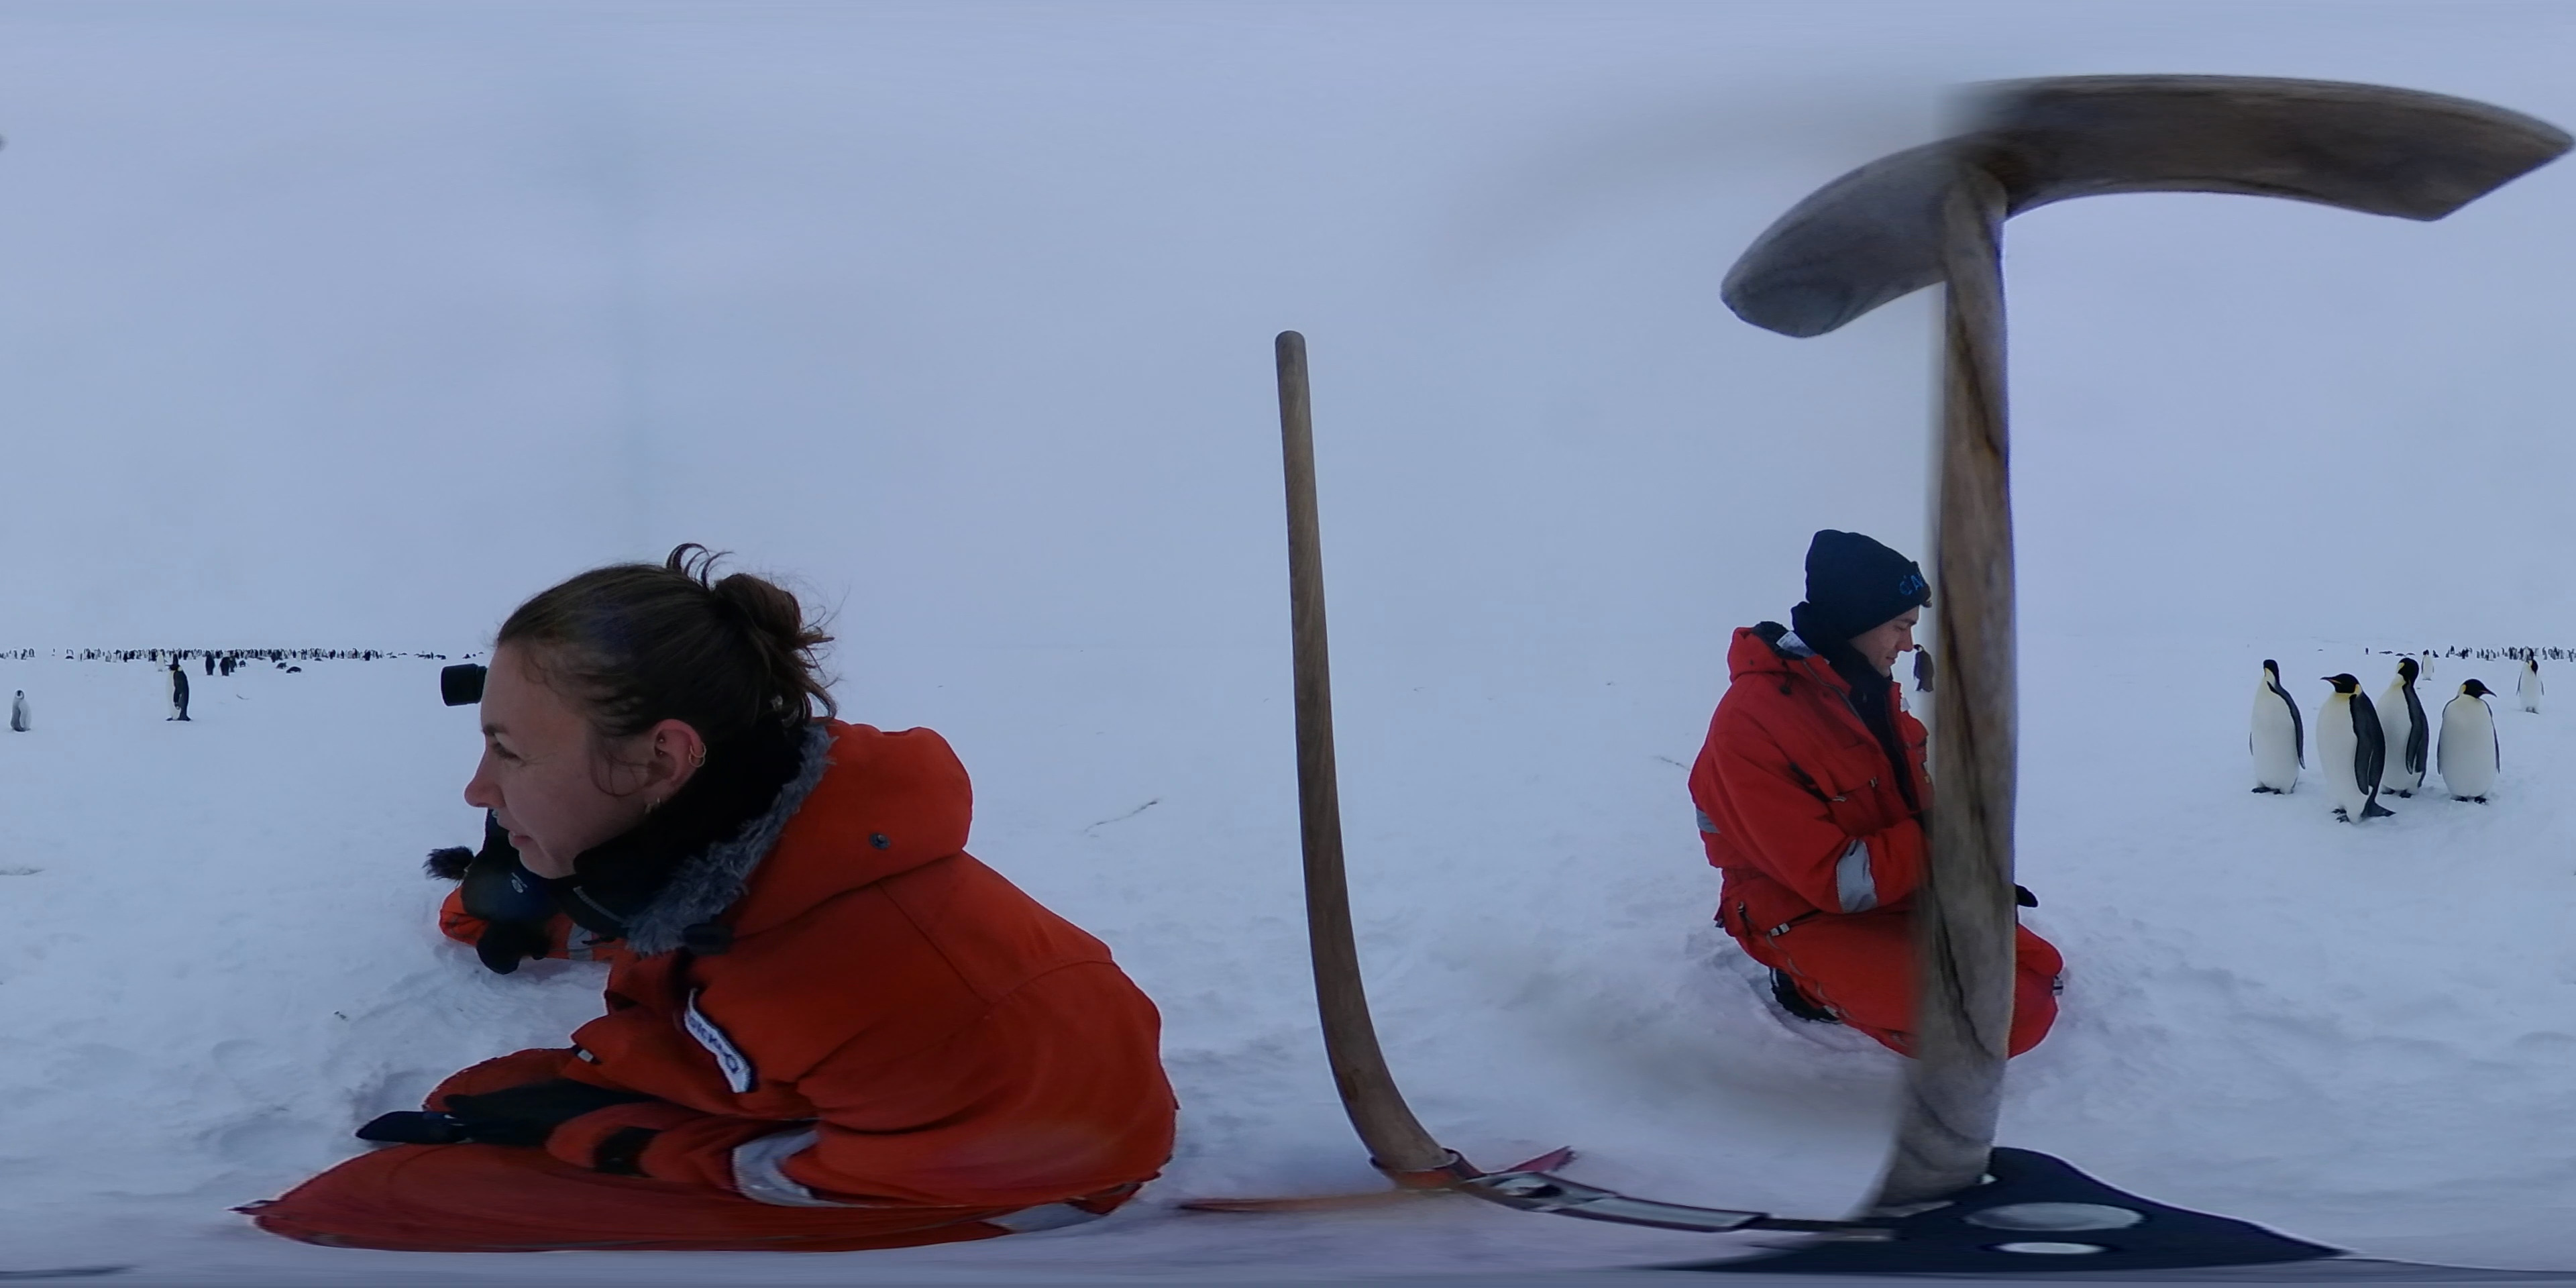adult_standing_penguin: (2313, 670, 2395, 831), (2438, 674, 2510, 812), (2244, 655, 2310, 803), (2374, 655, 2431, 802), (161, 660, 197, 726), (1902, 639, 1942, 693), (2517, 657, 2548, 721), (2418, 647, 2436, 680)
juvenile_penguin: (5, 687, 36, 734)
researcher: (432, 555, 1193, 1203), (1674, 517, 2083, 1068)
